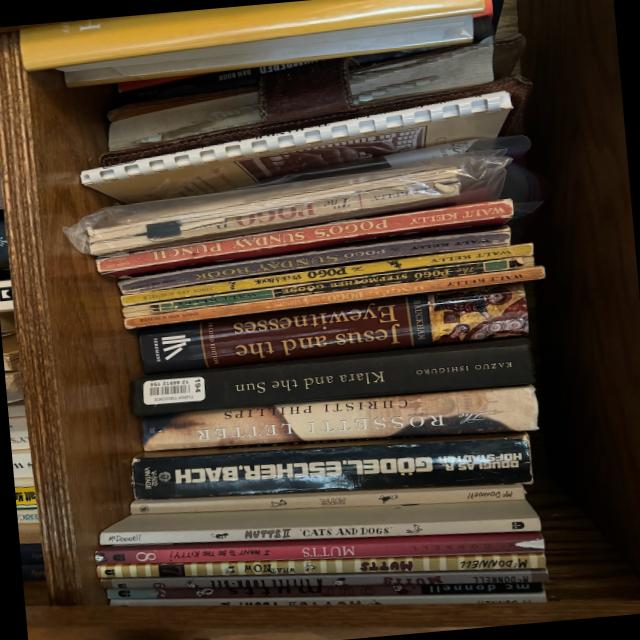book: (137, 282, 529, 375), (93, 196, 515, 280), (84, 164, 462, 257), (130, 337, 533, 417), (116, 224, 511, 296), (118, 240, 532, 307), (131, 431, 531, 500), (122, 265, 544, 329), (121, 253, 533, 318), (141, 384, 538, 451), (99, 499, 539, 547), (94, 530, 544, 567), (96, 551, 544, 579), (128, 483, 525, 514), (101, 567, 547, 590), (107, 581, 543, 600), (109, 590, 545, 609)
